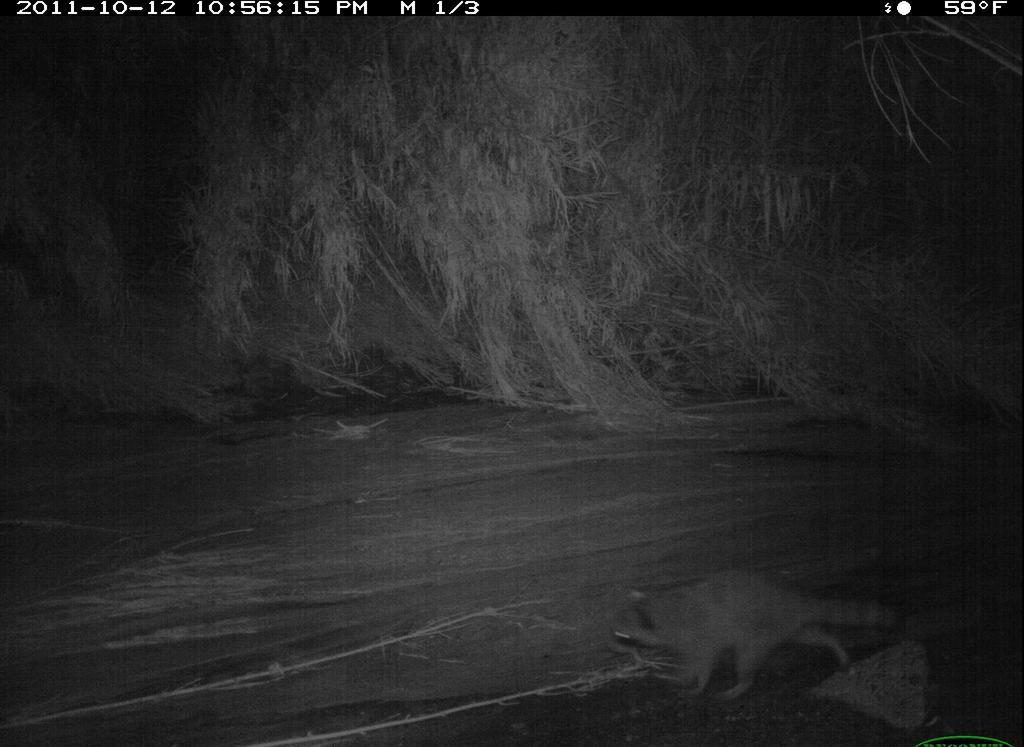raccoon: (610, 564, 926, 703)
